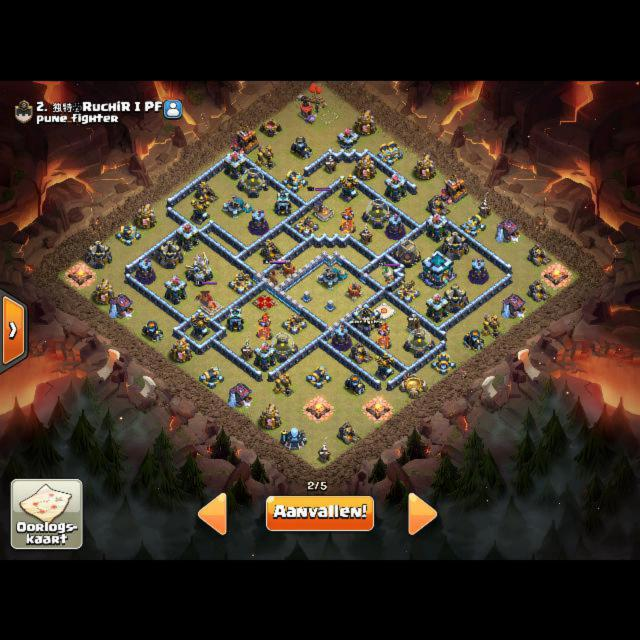AD: (190, 194, 210, 224), (374, 352, 394, 381), (338, 173, 358, 202), (191, 311, 210, 340)
AirSweeper: (279, 258, 298, 278), (344, 281, 362, 301)
BombTower: (227, 305, 243, 332), (274, 188, 290, 214)
Canon: (376, 140, 402, 165), (430, 350, 456, 374), (459, 212, 485, 236), (281, 169, 307, 192), (306, 365, 331, 388), (198, 366, 224, 388), (115, 223, 141, 245)
ClanCastle: (352, 301, 381, 335)
Eagle: (185, 251, 213, 286)
Inferno: (339, 206, 356, 232), (256, 313, 272, 340), (375, 322, 391, 349)
KingPad: (200, 298, 222, 315)
Mortar: (290, 135, 312, 159), (141, 319, 163, 341), (462, 329, 484, 351), (343, 373, 365, 395)
QueenPad: (253, 293, 277, 311)
RcPad: (315, 205, 334, 220)
Scattershot: (223, 193, 252, 217), (319, 266, 348, 289)
TH13: (421, 248, 454, 288)
WardenPad: (373, 303, 394, 318)
WizzTower: (332, 324, 351, 350), (249, 208, 268, 234), (386, 212, 405, 238), (469, 257, 488, 283), (136, 257, 155, 283)
Xbow: (228, 269, 254, 294), (394, 278, 420, 302), (281, 311, 307, 334), (293, 215, 319, 236)
